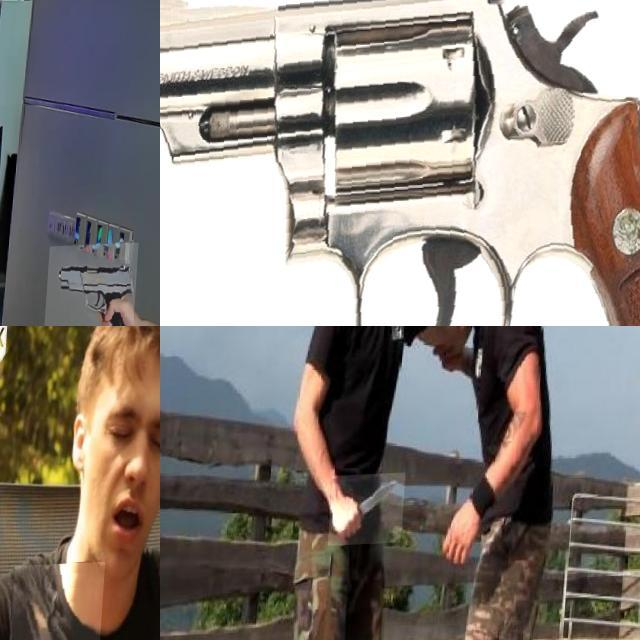-: (8, 563, 109, 640), (334, 476, 411, 549)
gun-knife-thesis - v11 Yolov5 augmented: (160, 0, 640, 326), (47, 244, 142, 326)
